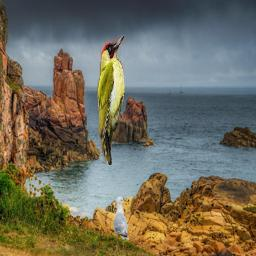Woodpecker: (97, 35, 129, 165)
